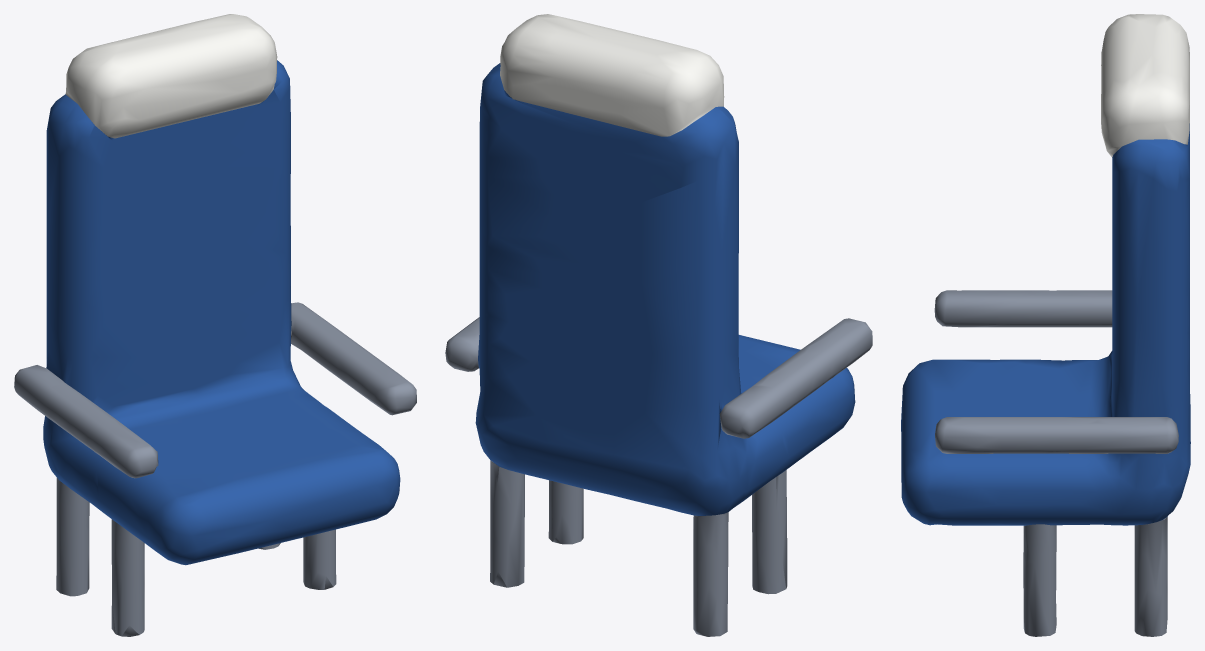
Rendered from seat.glb.
3 renders of one model, left to right at view 1: azimuth 30°, elevation 25°; view 2: azimuth 150°, elevation 25°; view 3: azimuth 270°, elevation 25°, orthographic. The views are drawn at different scales.
Visible parts, largest first — view 1: root; view 2: root; view 3: root.
Part boxes in pixels (x1,y1,x2,y2): root: (14,14,416,636); root: (445,14,872,636); root: (901,14,1190,636).
Bounding box in the file's own units: 0.6096 × 1.06 × 0.5215.
